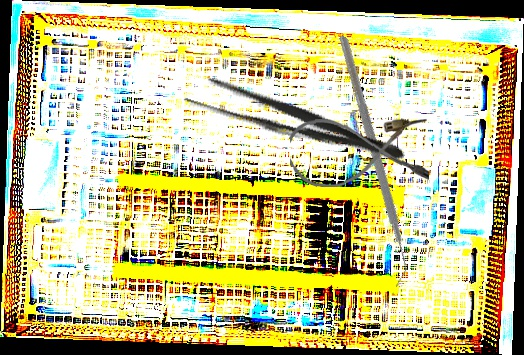Cannula: (288, 115, 430, 189)
Chopper: (241, 34, 498, 288)
Dressing Forceps: (180, 69, 411, 173)
